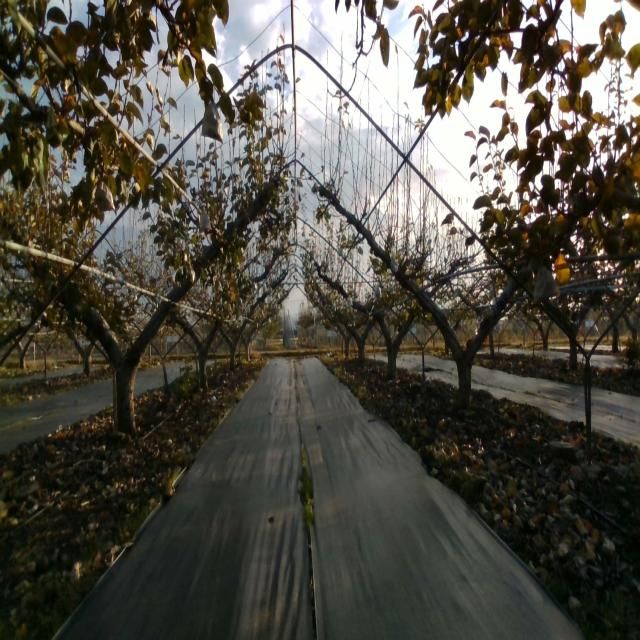pearbags: (533, 266, 560, 306), (202, 101, 224, 145), (94, 179, 116, 212), (199, 206, 212, 233)
